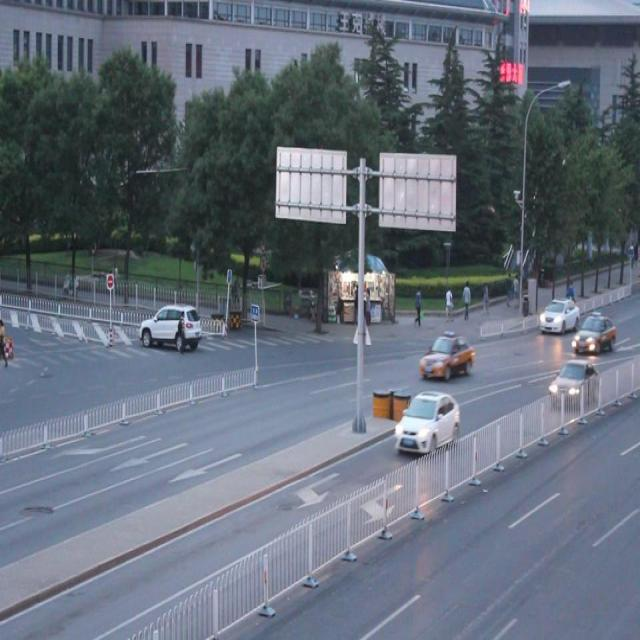car: (394, 388, 459, 452), (140, 301, 202, 348), (418, 332, 474, 379), (546, 358, 598, 404), (572, 312, 616, 353), (538, 297, 578, 330)
